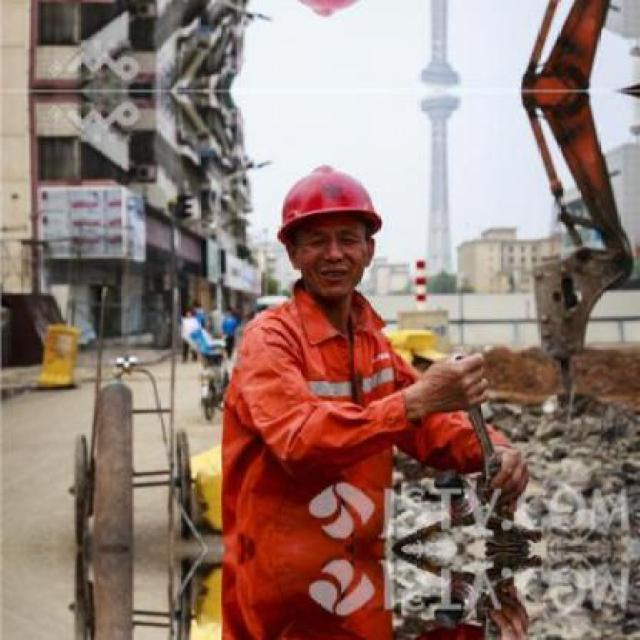helmet: (268, 147, 392, 239)
